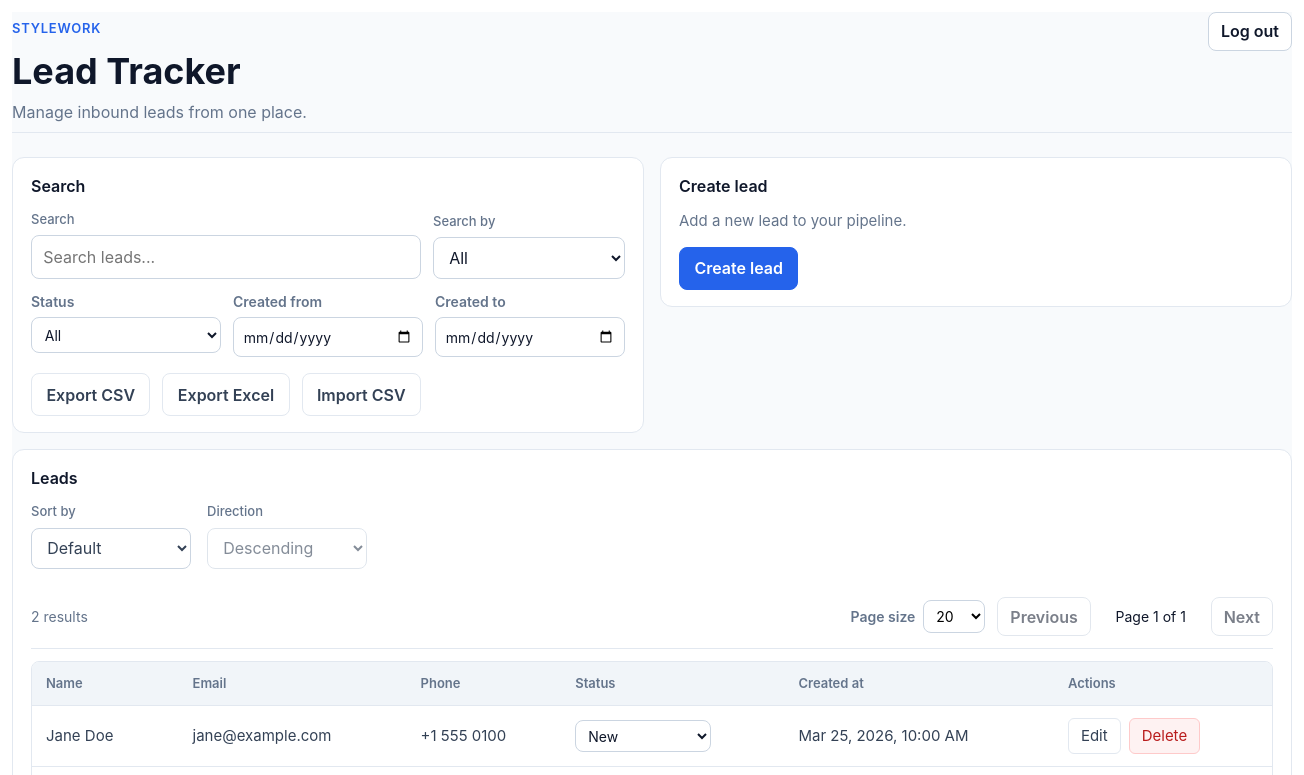
Test: LeadTrackerPage › lead export › shows an error when CSV export fails
Expected: the text "Jane Doe" is shown, [32, 706, 178, 767]
Click the button "Export CSV".
click(91, 395)  # box [31, 373, 150, 416]
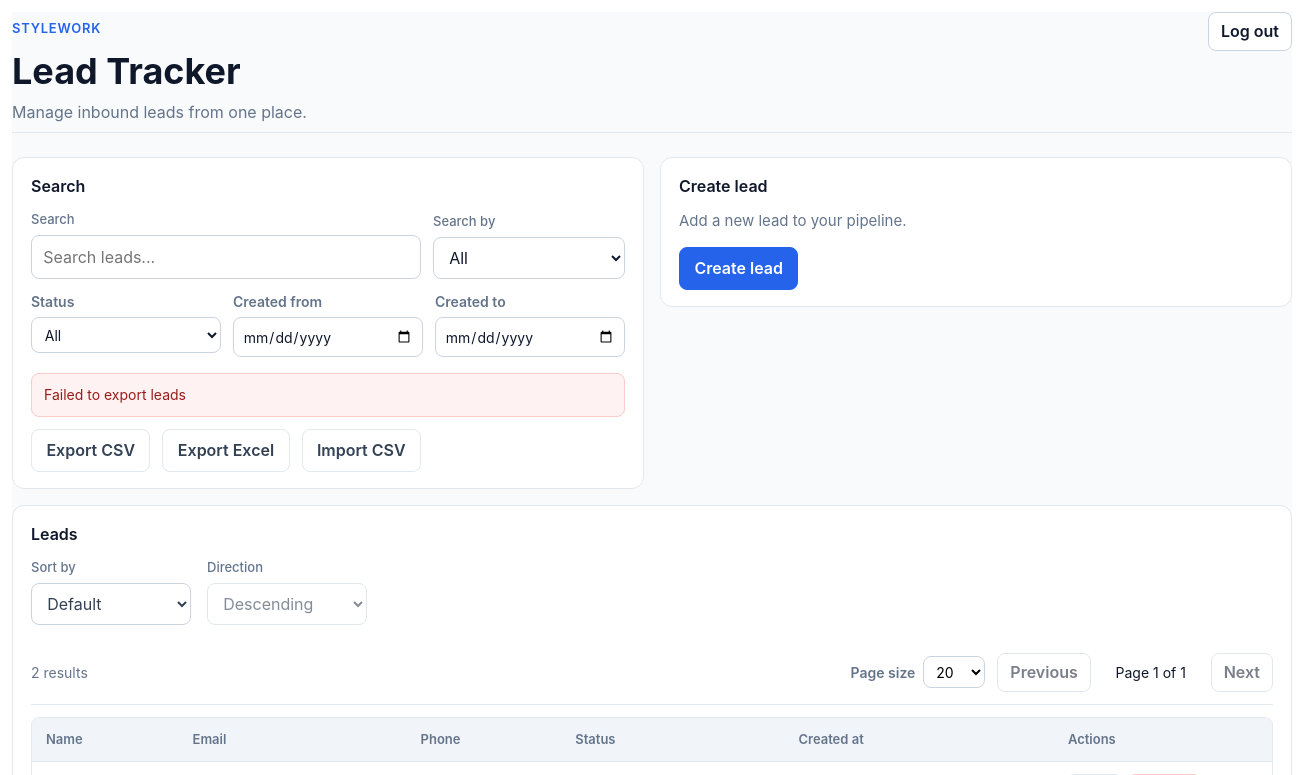
Expected: the text "Failed to export leads" is shown, [31, 373, 625, 417]
